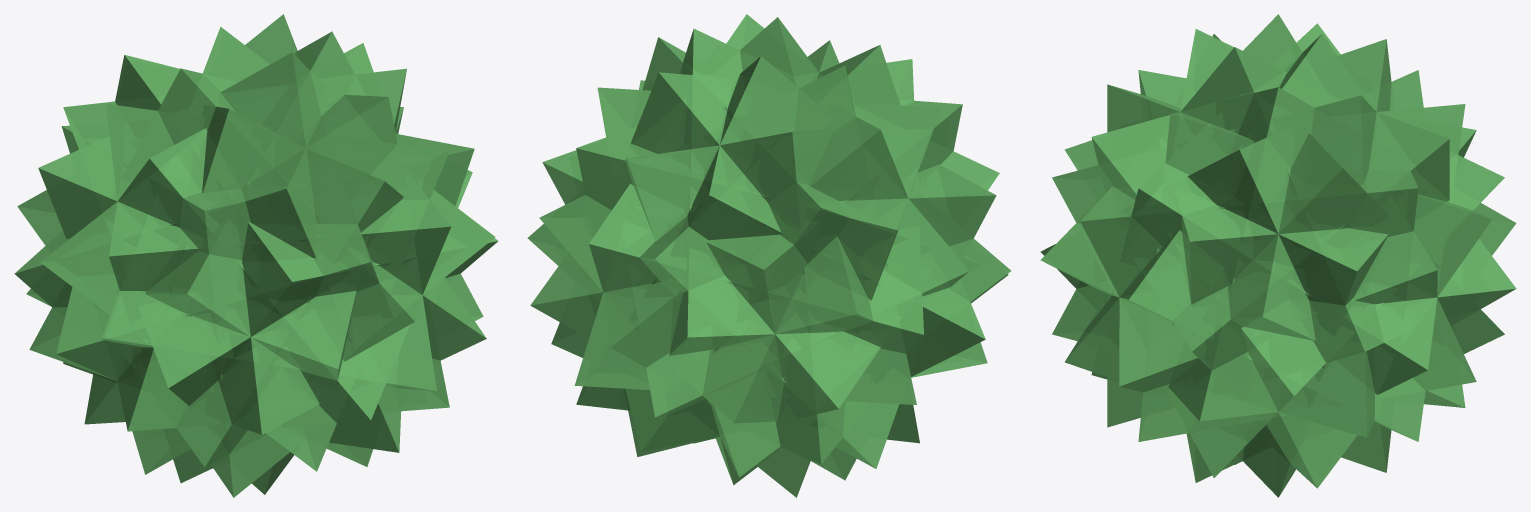
Rendered from GreatInvertedPentagonalHexecontahedron.obj.
3 renders of one model, left to right at view 1: azimuth 30°, elevation 25°; view 2: azimuth 150°, elevation 25°; view 3: azimuth 270°, elevation 25°, orthographic.
Size of the model in its own units: 1.13 by 1.13 by 1.13.
